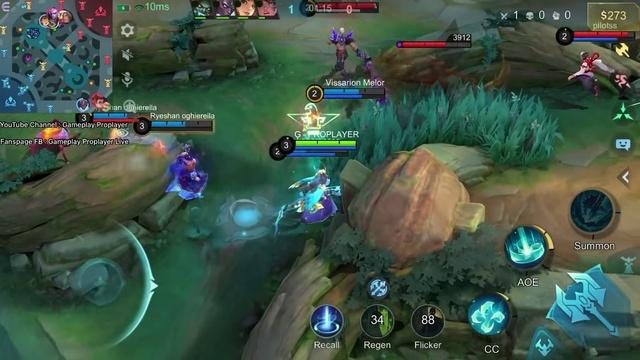Arbusto: (346, 82, 561, 167)
Buff_Red: (372, 47, 490, 103), (483, 59, 510, 89)
EXP_Lane: (3, 0, 14, 16)
Esbirro_Jungla: (28, 119, 76, 162)
Exp_Enemigo: (48, 8, 59, 19)
Gold_Lane: (101, 100, 114, 111)
Guinever: (165, 144, 207, 200)
HP_Aliado: (151, 121, 213, 127), (324, 88, 385, 94), (93, 113, 151, 119), (293, 150, 348, 153)
HP_Enemigo: (316, 3, 380, 9), (573, 32, 634, 37)
Jungla_Aliado: (40, 14, 49, 28), (63, 13, 73, 24)
Mana: (324, 93, 384, 98), (573, 37, 634, 41), (295, 147, 357, 150), (288, 154, 349, 157)
Matilda: (279, 169, 339, 217)
Mid_Aliado: (46, 19, 59, 27), (58, 9, 67, 19)
Minimapa: (0, 1, 114, 112)
Pasiva_Guinever: (93, 119, 141, 123)
Pasiva_Phoveus: (315, 9, 380, 13)
Phoveus: (328, 27, 376, 78)
Skill1: (467, 293, 510, 335)
Skill2: (504, 226, 553, 268)
Terizla: (348, 101, 395, 151)
Vale: (568, 52, 628, 96)
Vexana: (302, 195, 336, 222)
